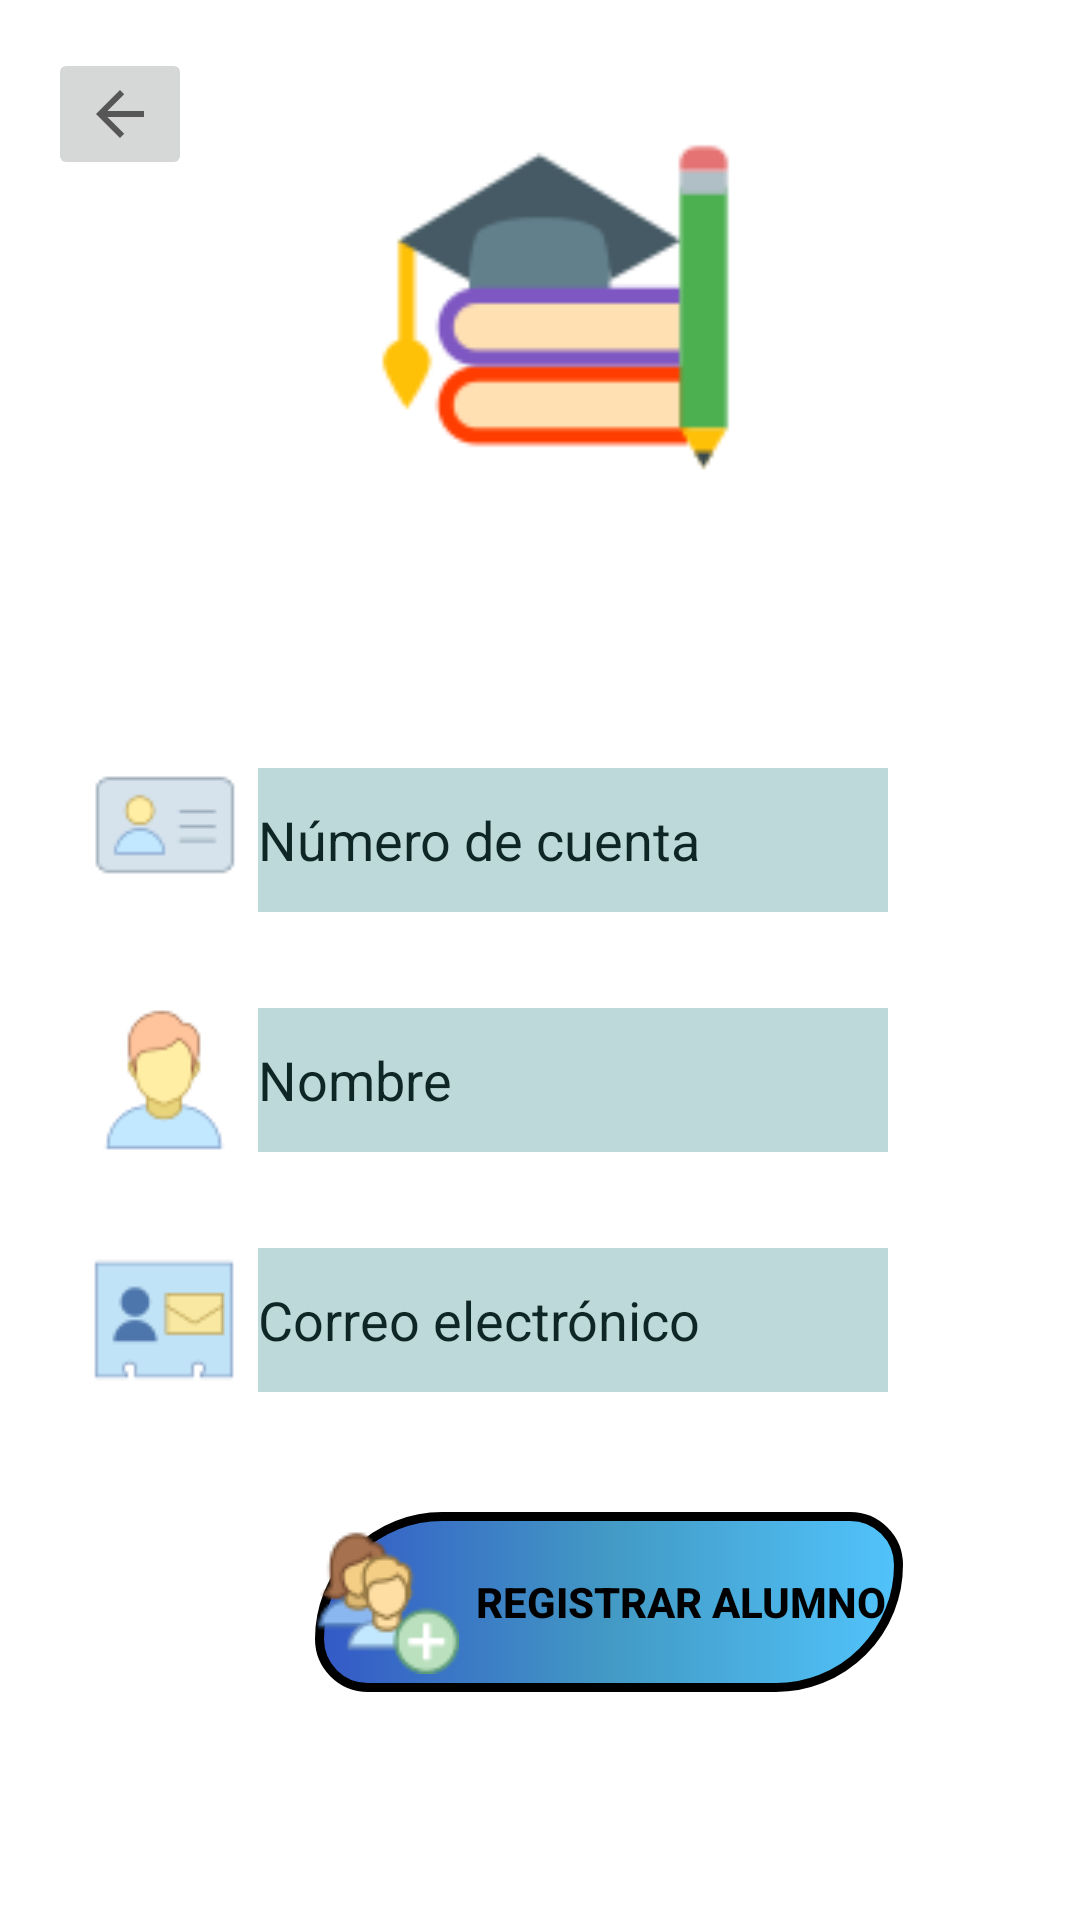

Icon bounding boxes for this 1080px×1920px phone screenshot, format (x1, y1, x2, y2):
imagen correo: (94, 1261, 234, 1378)
imagen cuenta: (95, 776, 235, 874)
imagen principal: (382, 145, 729, 470)
imagen regresar / enviar listas: (60, 66, 180, 162)
